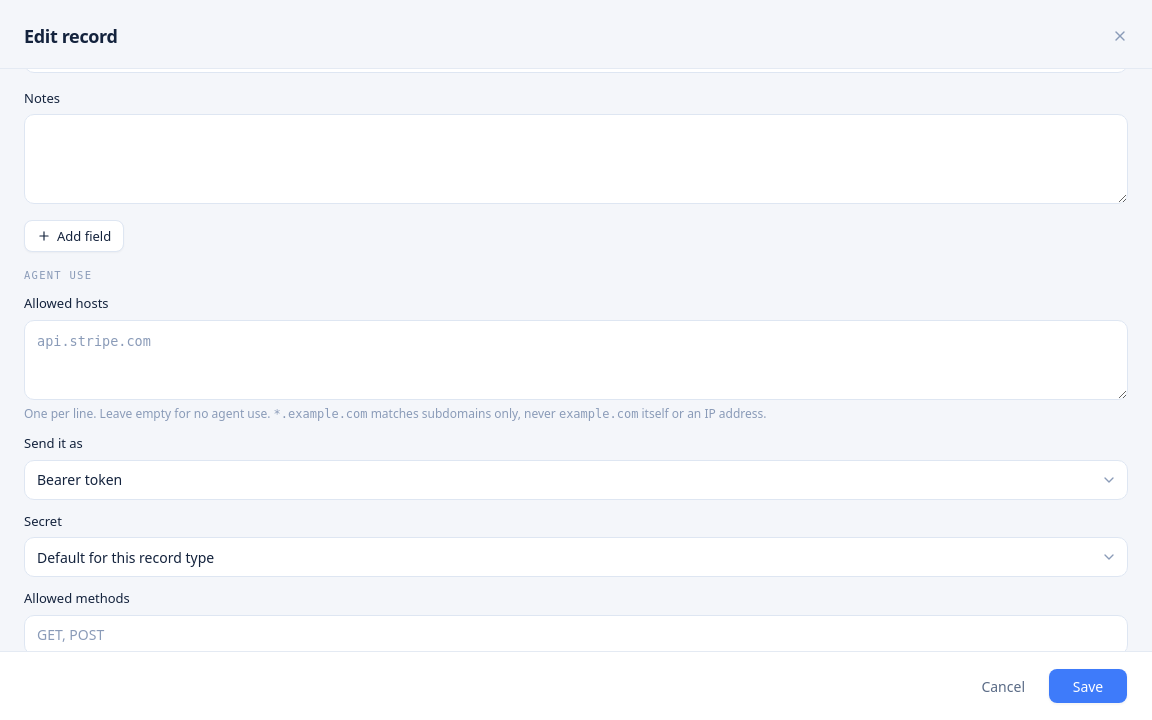
Test: RecordEditor › Agent use › refuses an IP host and disables Save
(page scrolled)
Type "10.0.0.5" into the text box labelled "Allowed hosts" at [576, 360], box [24,320,1128,400]
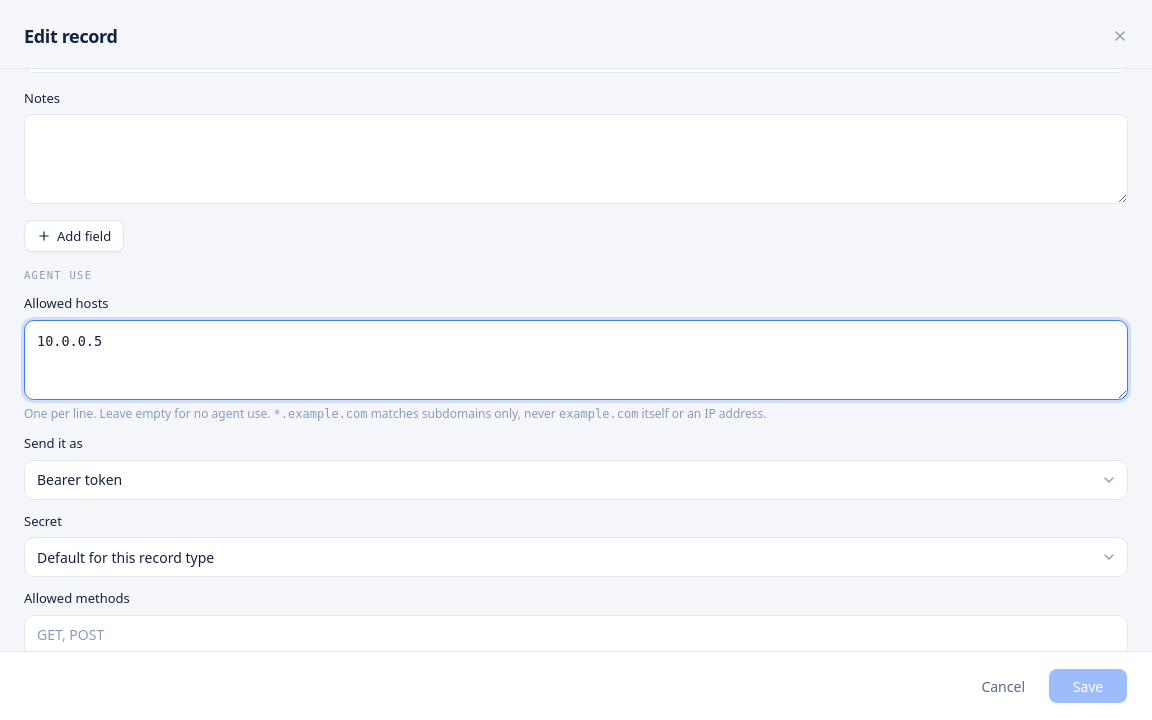
Result: the button "Save" is disabled at [1048,668,1128,704]
